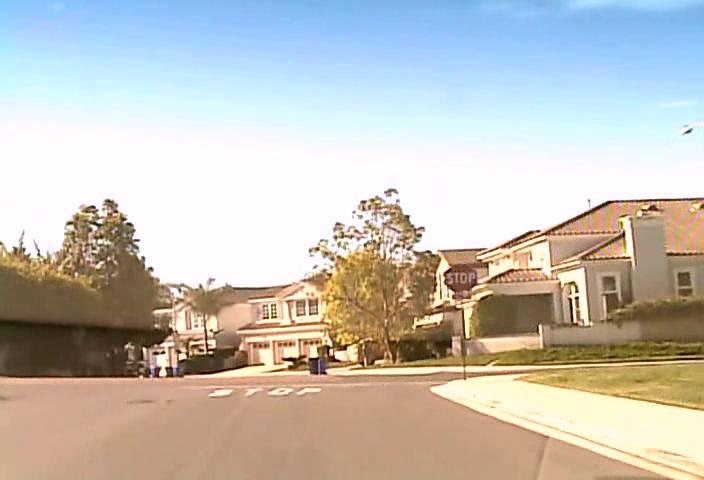stop: (443, 262, 477, 294)
